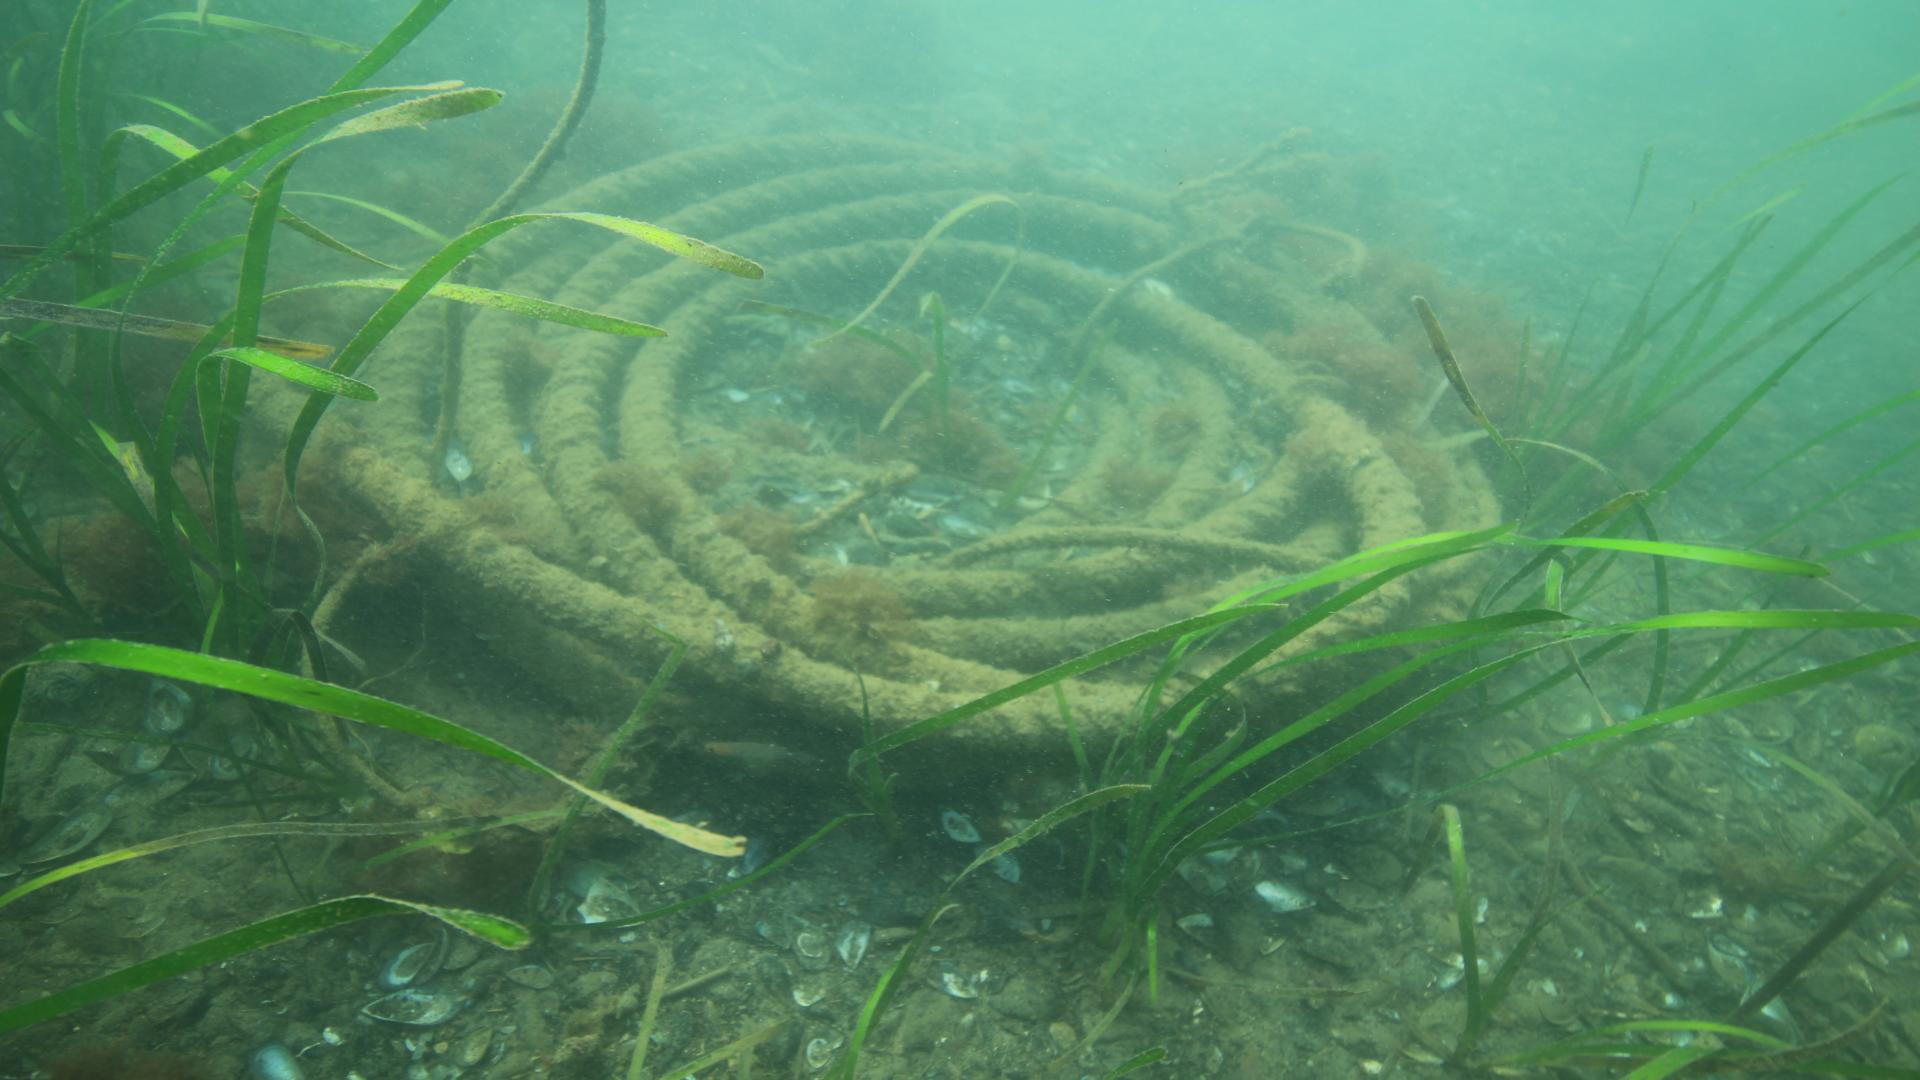bundle of ropes: (243, 129, 1505, 793)
